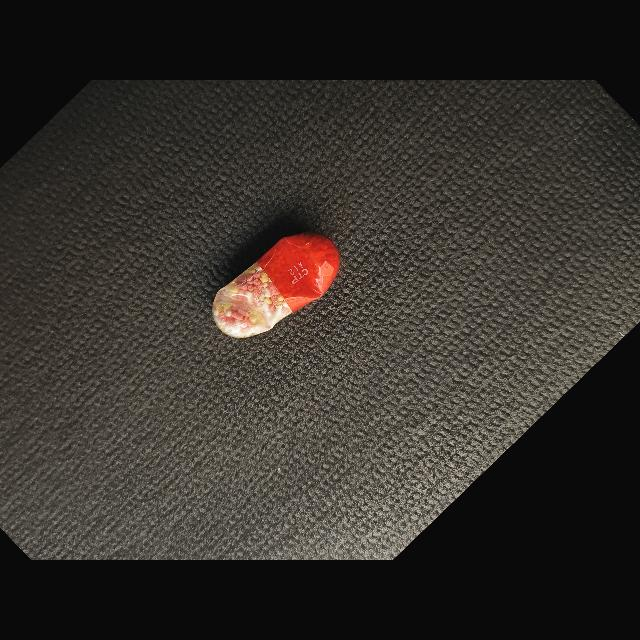Defective Capsule: (212, 233, 340, 338)
